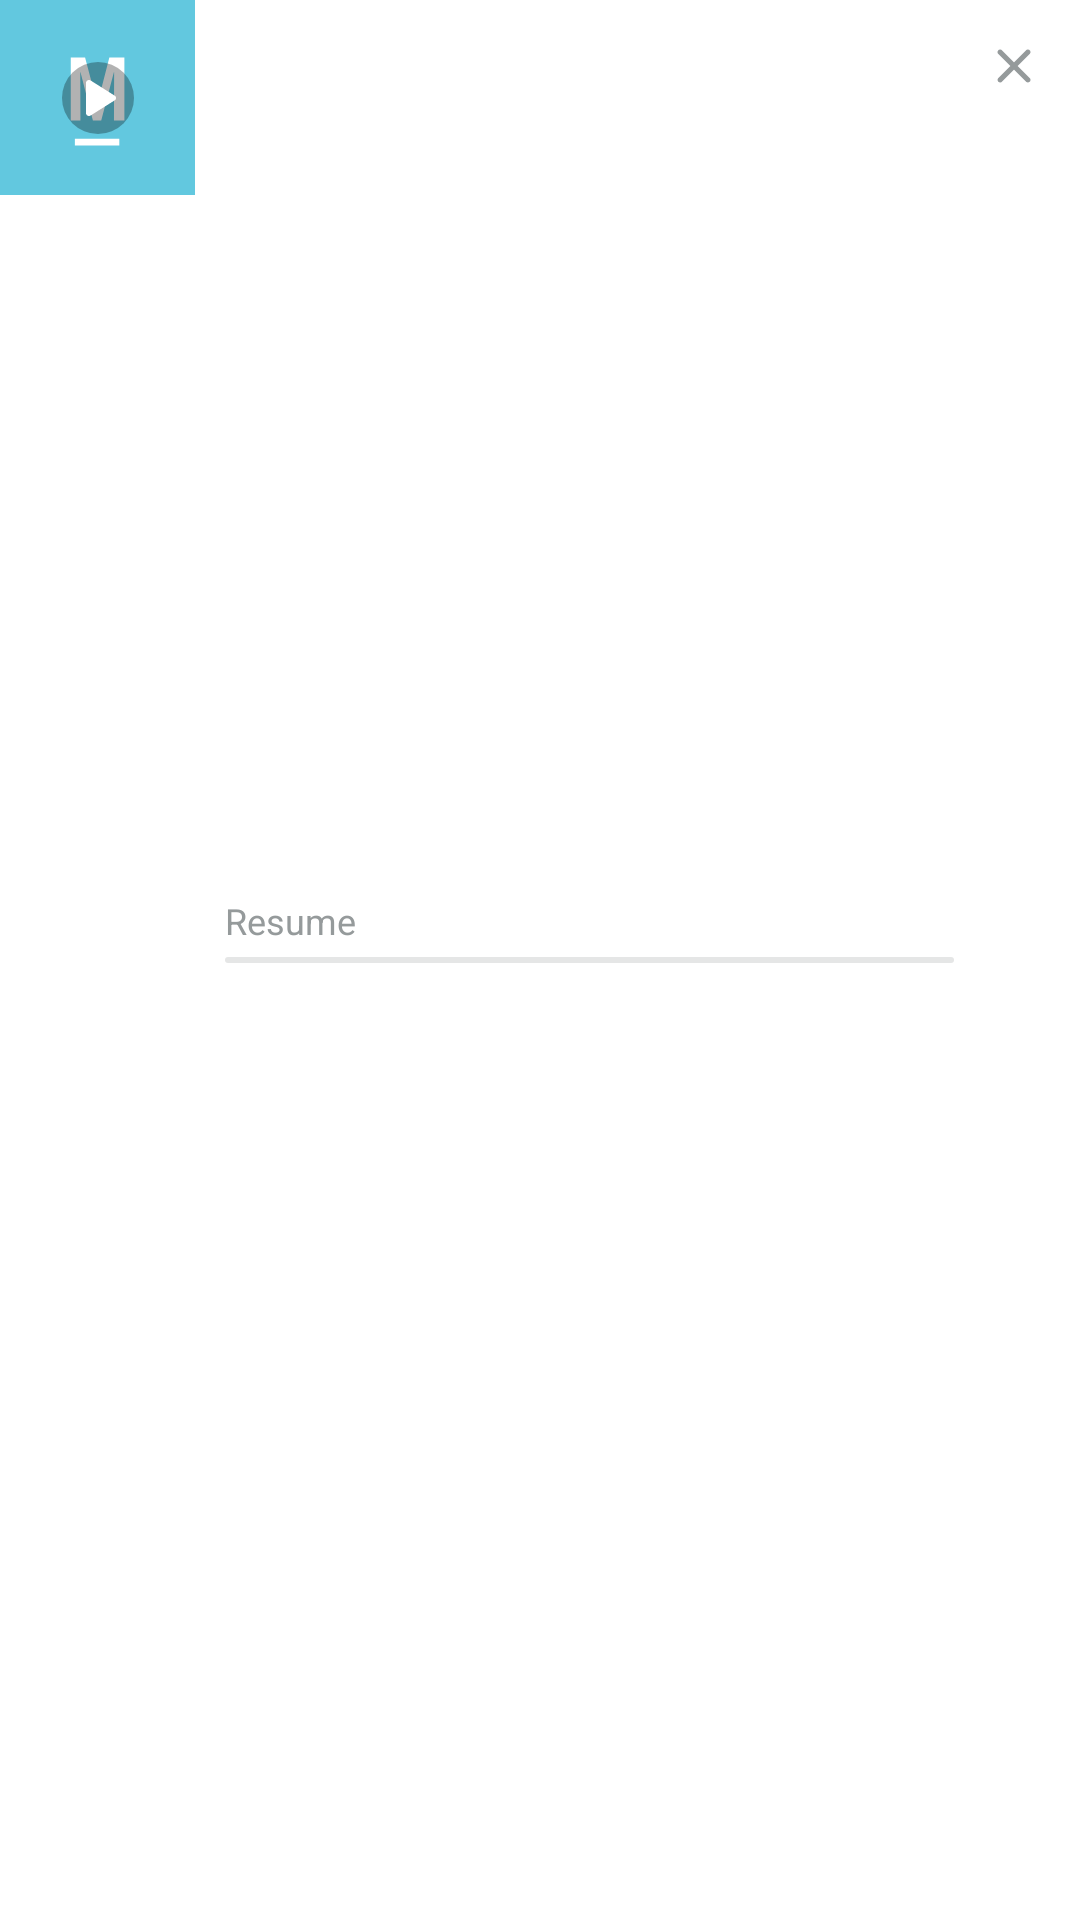

Locate icon controls on the screen. Image size 1080×1920, boxes as (x1, y1, x2, y2).
playback play: (62, 62, 134, 134)
switch orientation close: (997, 49, 1031, 83)
